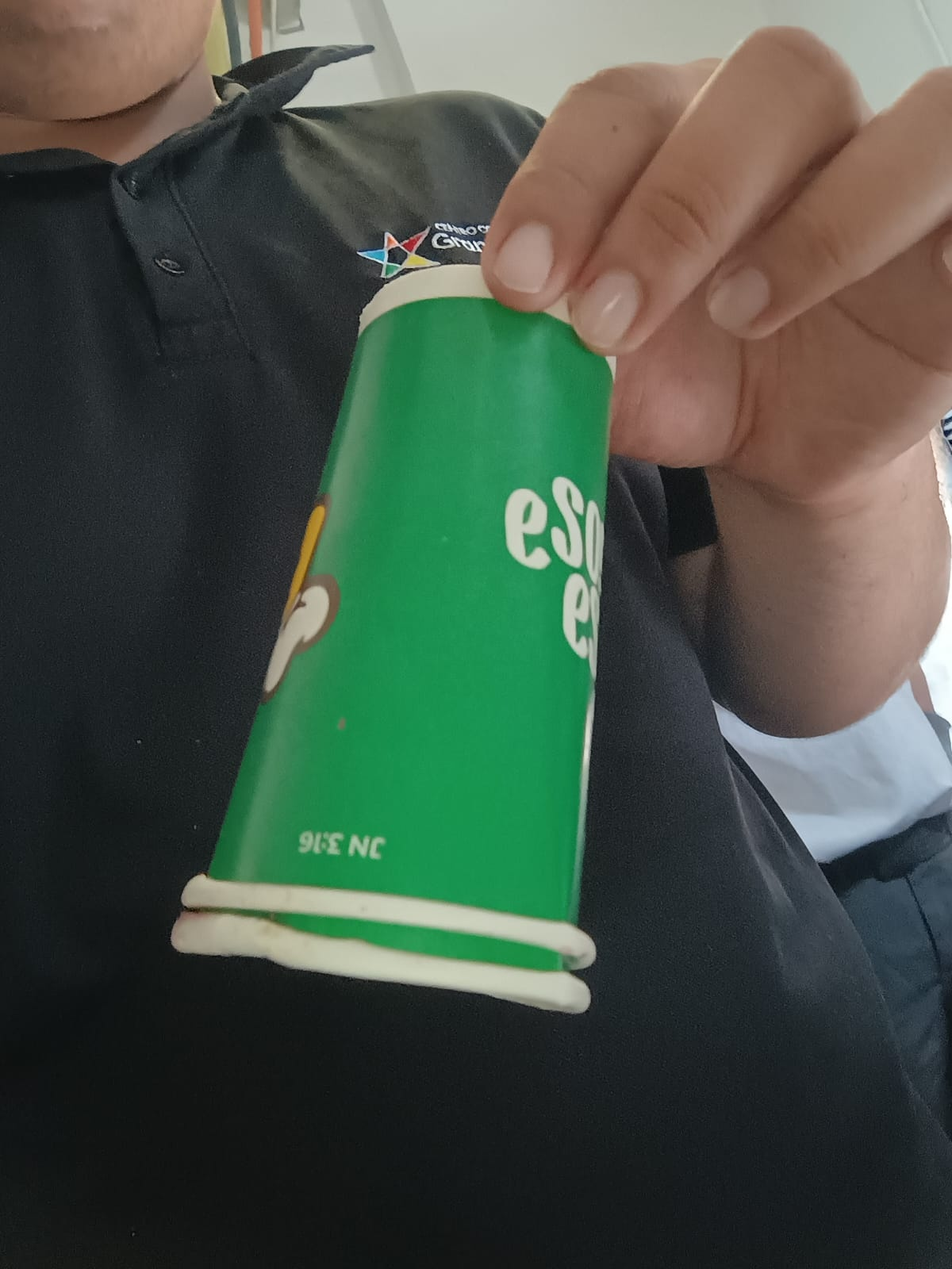Carton: (166, 264, 618, 1016)
